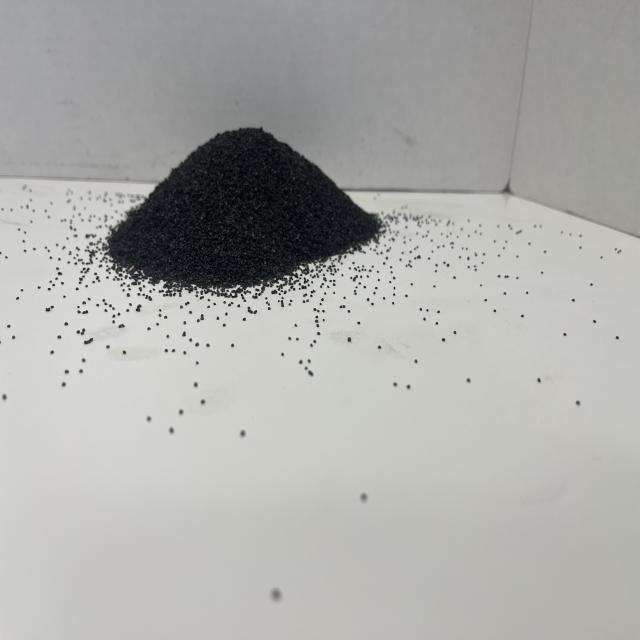Poppy Seeds: (101, 110, 390, 301)
